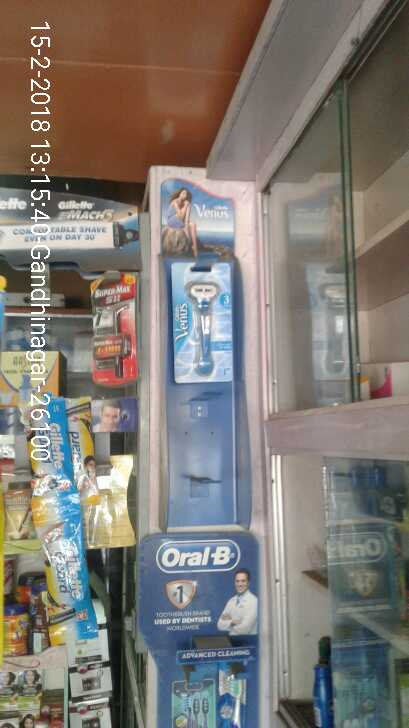beauty: (32, 498, 100, 643), (164, 257, 238, 381), (64, 395, 100, 494)
